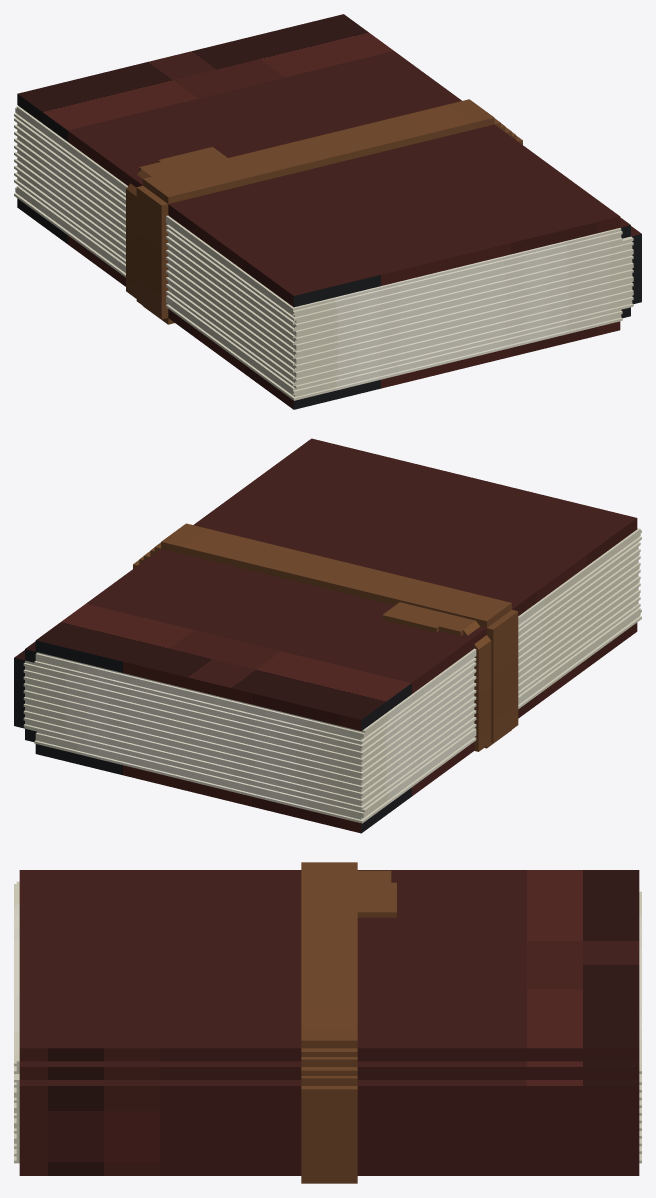
Rendered from template_book.gltf.
3 renders of one model, top to bottom at view 1: azimuth 30°, elevation 25°; view 2: azimuth 150°, elevation 25°; view 3: azimuth 270°, elevation 25°, orthographic. The views are drawn at different scales.
Parts seen in each view (by area): view 1: cube (×47); view 2: cube (×47); view 3: cube (×15).
Part boxes in pixels (x1,y1,x2,y2): cube (×47): [14, 14, 641, 409]; cube (×47): [14, 438, 641, 833]; cube (×15): [14, 862, 641, 1175].
Bounding box in the file's own units: 0.5188 × 0.175 × 0.6969.
Materials: 3 (3 with a texture image).
